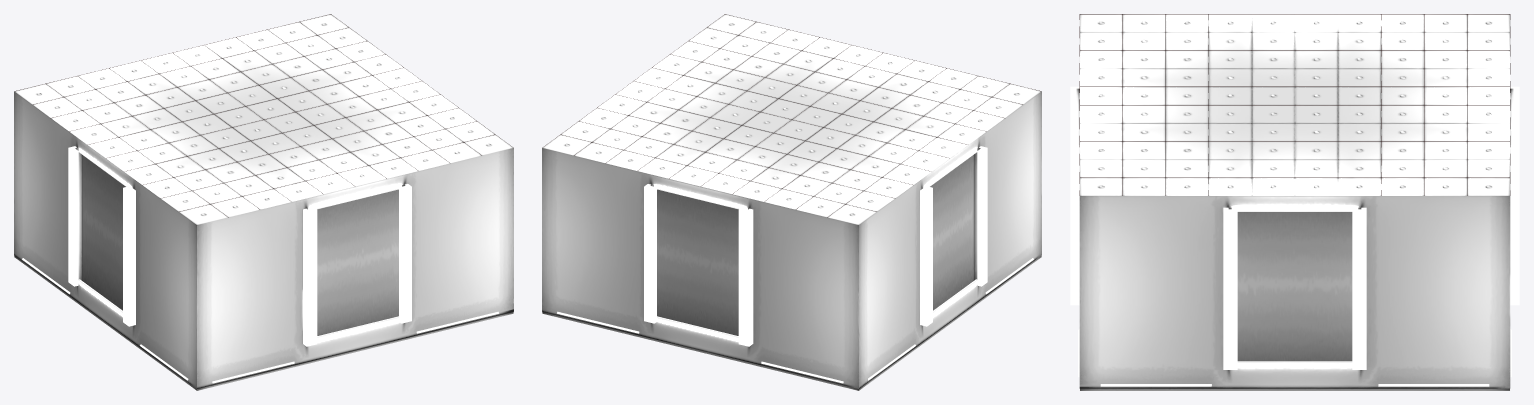
Rendered from ExhibitionHall_b.fbx.
3 views of the same model, side by side, from view 1: azimuth 30°, elevation 25°; view 2: azimuth 150°, elevation 25°; view 3: azimuth 270°, elevation 25° (orthographic). The views are drawn at different scales.
Parts seen in each view (by area): view 1: ExhibitionHall_b_LAM05, ExhibitionHall_b_LAM01, ExhibitionHall_b_LAM04, ExhibitionHall_b_LAM02, ExhibitionLight_b_LAM02, ExhibitionHall_b_LAM03, ExhibitionLightMetal_b_LAM01, ExhibitionLight_b_LAM01; view 2: ExhibitionHall_b_LAM05, ExhibitionHall_b_LAM01, ExhibitionHall_b_LAM04, ExhibitionHall_b_LAM02, ExhibitionLight_b_LAM02, ExhibitionHall_b_LAM03, ExhibitionLightMetal_b_LAM01, ExhibitionLight_b_LAM01; view 3: ExhibitionHall_b_LAM01, ExhibitionHall_b_LAM05, ExhibitionHall_b_LAM04, ExhibitionHall_b_LAM02, ExhibitionLightMetal_b_LAM01, ExhibitionHall_b_LAM03, ExhibitionLight_b_LAM02, ExhibitionLight_b_LAM01.
Part boxes in pixels (x1,y1,x2,y2): ExhibitionHall_b_LAM05: (14,91,513,388); ExhibitionHall_b_LAM01: (14,14,512,224); ExhibitionHall_b_LAM04: (77,148,404,379); ExhibitionHall_b_LAM02: (15,14,513,217); ExhibitionLight_b_LAM02: (74,151,498,383); ExhibitionHall_b_LAM03: (14,255,513,390); ExhibitionLightMetal_b_LAM01: (36,24,491,215); ExhibitionLight_b_LAM01: (37,23,490,214); ExhibitionHall_b_LAM05: (542,91,1041,388); ExhibitionHall_b_LAM01: (543,14,1041,224); ExhibitionHall_b_LAM04: (651,148,978,379); ExhibitionHall_b_LAM02: (542,14,1040,217); ExhibitionLight_b_LAM02: (557,151,981,383); ExhibitionHall_b_LAM03: (542,255,1041,390); ExhibitionLightMetal_b_LAM01: (564,24,1019,215); ExhibitionLight_b_LAM01: (565,23,1018,214); ExhibitionHall_b_LAM01: (1079,14,1510,195); ExhibitionHall_b_LAM05: (1070,86,1519,388); ExhibitionHall_b_LAM04: (1211,207,1378,385); ExhibitionHall_b_LAM02: (1079,14,1510,195); ExhibitionLightMetal_b_LAM01: (1098,22,1491,188); ExhibitionHall_b_LAM03: (1080,388,1509,390); ExhibitionLight_b_LAM02: (1070,92,1519,386); ExhibitionLight_b_LAM01: (1099,21,1490,187).
Size of the model in its own units: 20.88 by 10.03 by 20.88.
